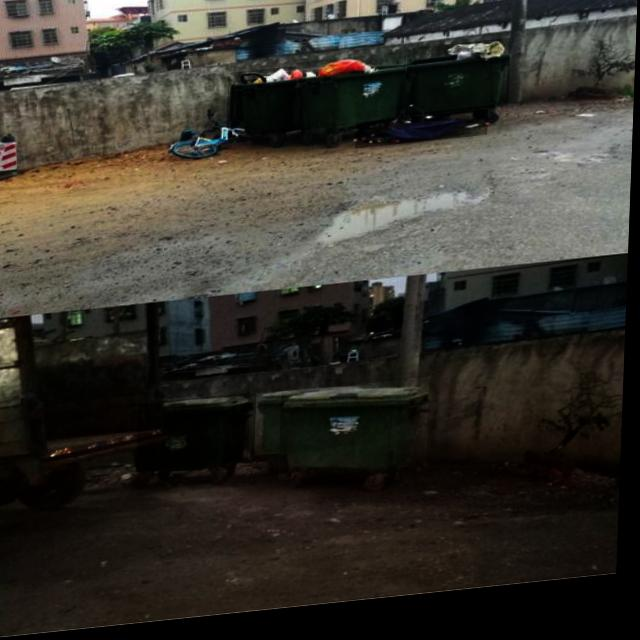garbage: (357, 120, 489, 157)
garbage_bin: (282, 387, 433, 487), (140, 398, 254, 475), (258, 397, 292, 462)
overflow: (296, 60, 407, 138), (406, 50, 511, 126), (227, 72, 304, 143)
